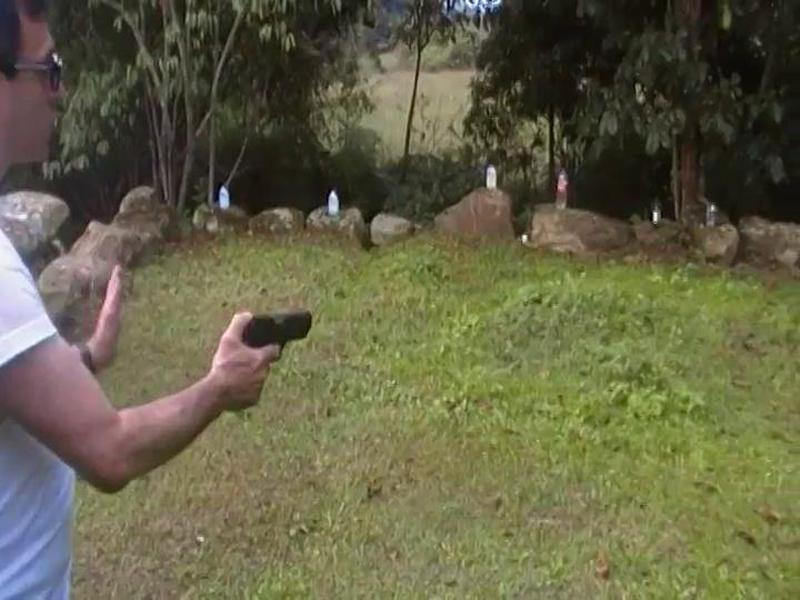Pistola: (236, 301, 335, 372)
